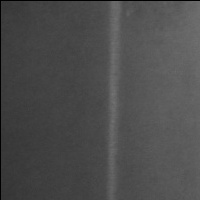scratches: (105, 12, 122, 187)
